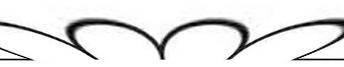inductor: (0, 11, 342, 65)
